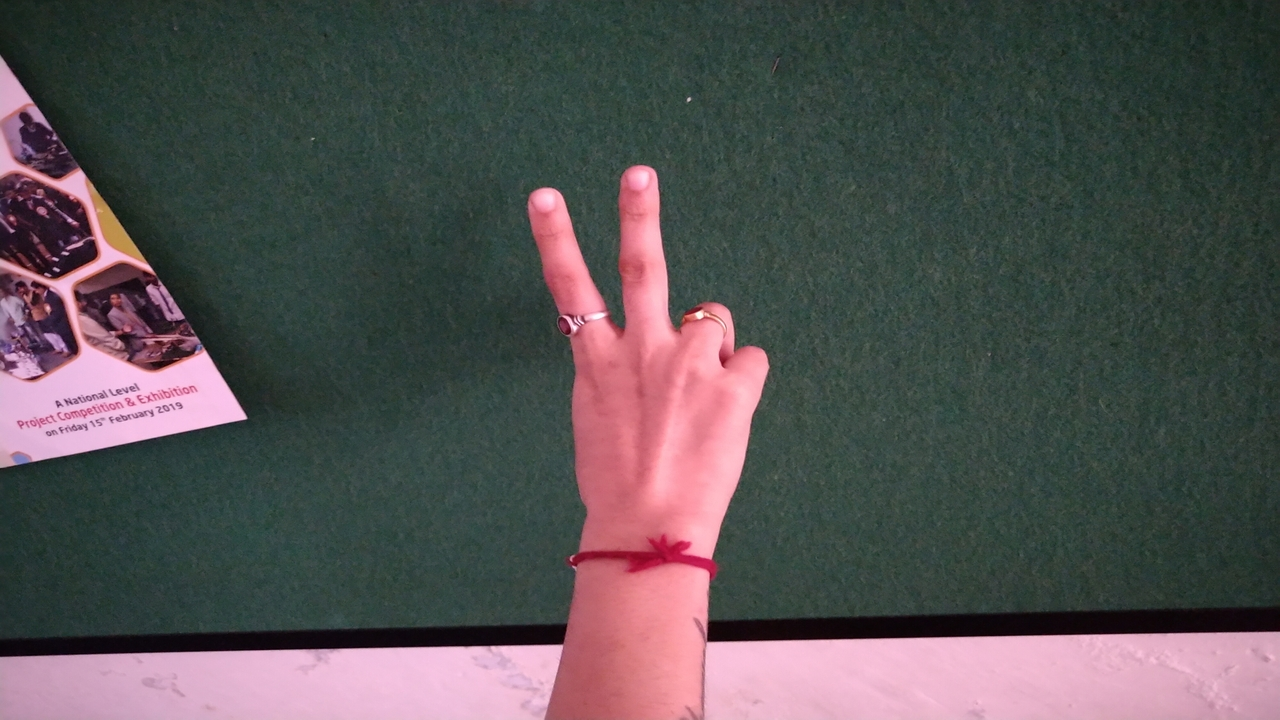fingertip: (520, 174, 578, 228), (608, 156, 664, 206)
